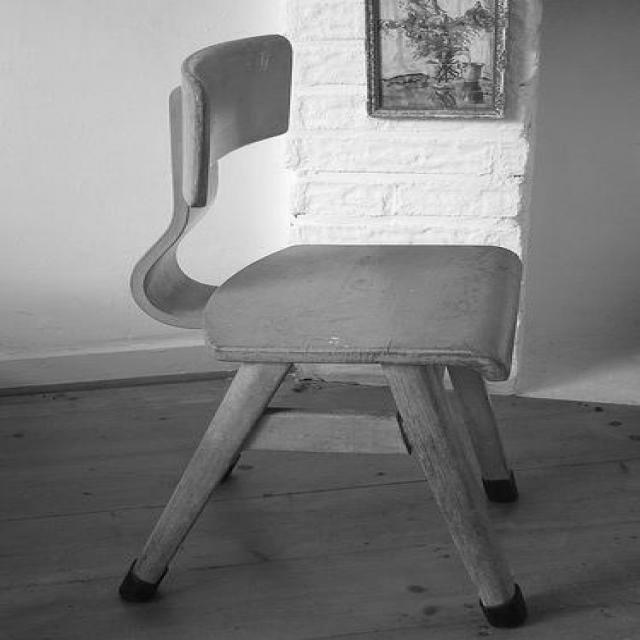chair: (116, 33, 540, 625)
